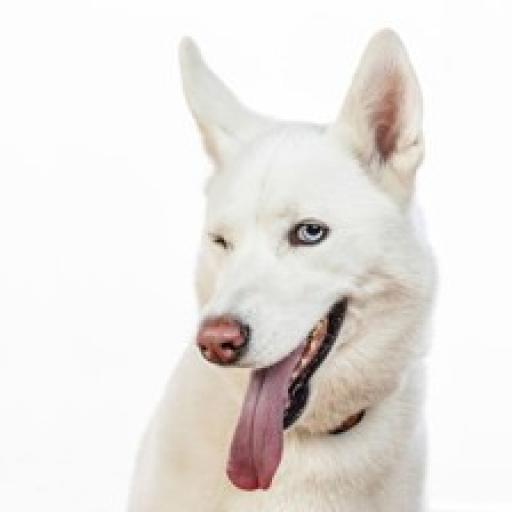dog: (120, 13, 442, 512)
